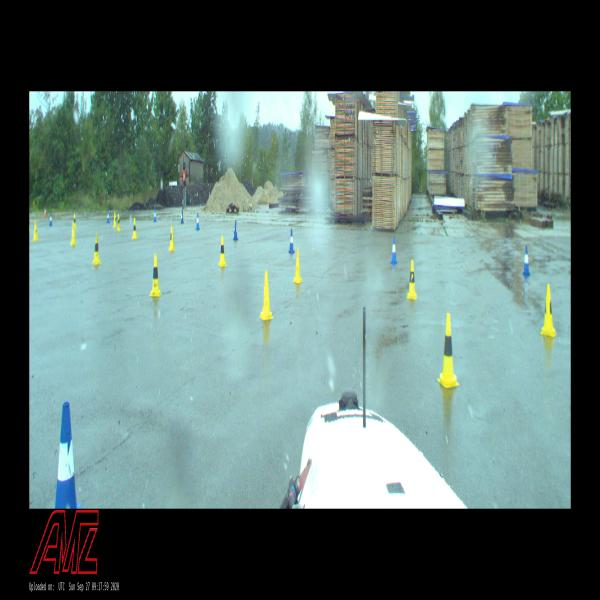blue_cone: (55, 402, 82, 508), (523, 245, 530, 275), (390, 236, 397, 264), (289, 229, 295, 253), (233, 220, 238, 240), (196, 213, 200, 230), (180, 208, 184, 224), (154, 207, 157, 222), (107, 211, 110, 223), (50, 214, 53, 226)
orange_cone: (44, 207, 46, 216)
yellow_cone: (437, 313, 459, 388), (540, 285, 556, 337), (259, 270, 273, 320), (149, 254, 161, 296), (407, 260, 417, 299), (292, 249, 303, 283), (92, 234, 102, 265), (219, 235, 226, 266), (168, 226, 176, 250), (70, 222, 77, 246), (32, 219, 38, 241), (132, 218, 137, 239), (117, 214, 121, 231), (73, 213, 77, 229), (113, 212, 117, 227), (29, 218, 31, 231)
